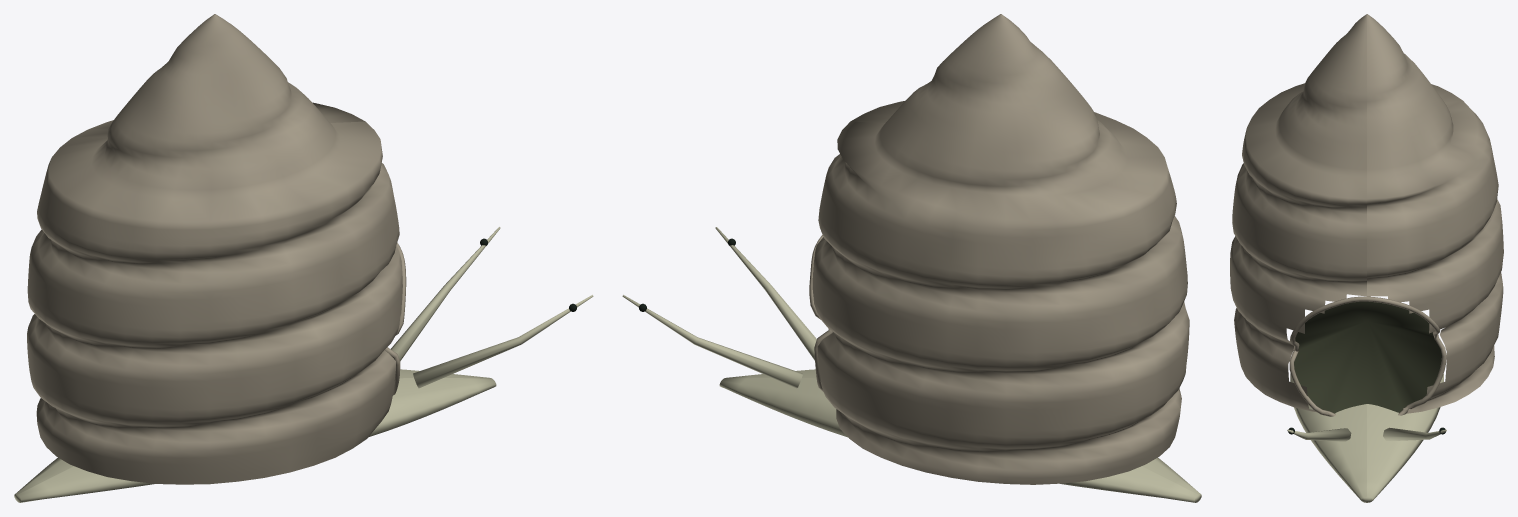
File: nassarius-mobile.glb
3 views of the same model, side by side, from view 1: azimuth 30°, elevation 25°; view 2: azimuth 150°, elevation 25°; view 3: azimuth 270°, elevation 25° (orthographic). The views are drawn at different scales.
Parts seen in each view (by area): view 1: connected-whorled-shell, muscular-foot, cephalic-tentacle; view 2: connected-whorled-shell, muscular-foot, cephalic-tentacle; view 3: connected-whorled-shell, recessed-aperture, muscular-foot, aperture-lip, cephalic-tentacle.
Boxes of the visible parts, x1,y1,x2,y2 form: connected-whorled-shell: (27, 14, 402, 484); muscular-foot: (14, 369, 496, 502); cephalic-tentacle: (391, 227, 593, 388); connected-whorled-shell: (812, 14, 1189, 484); muscular-foot: (719, 369, 1201, 502); cephalic-tentacle: (622, 227, 816, 388); connected-whorled-shell: (1230, 14, 1503, 413); recessed-aperture: (1294, 301, 1441, 413); muscular-foot: (1290, 373, 1443, 502); aperture-lip: (1289, 296, 1446, 416); cephalic-tentacle: (1287, 427, 1446, 441).
Bounding box in the file's own units: 0.5905 × 0.469 × 0.3117.
